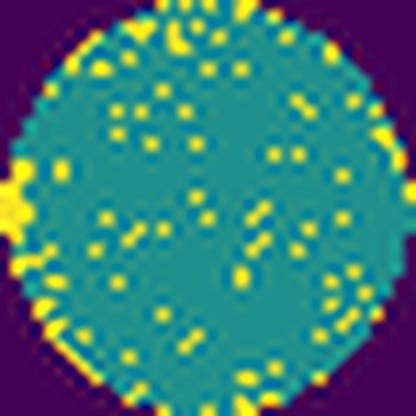Edge-Loc: (0, 150, 40, 247)
